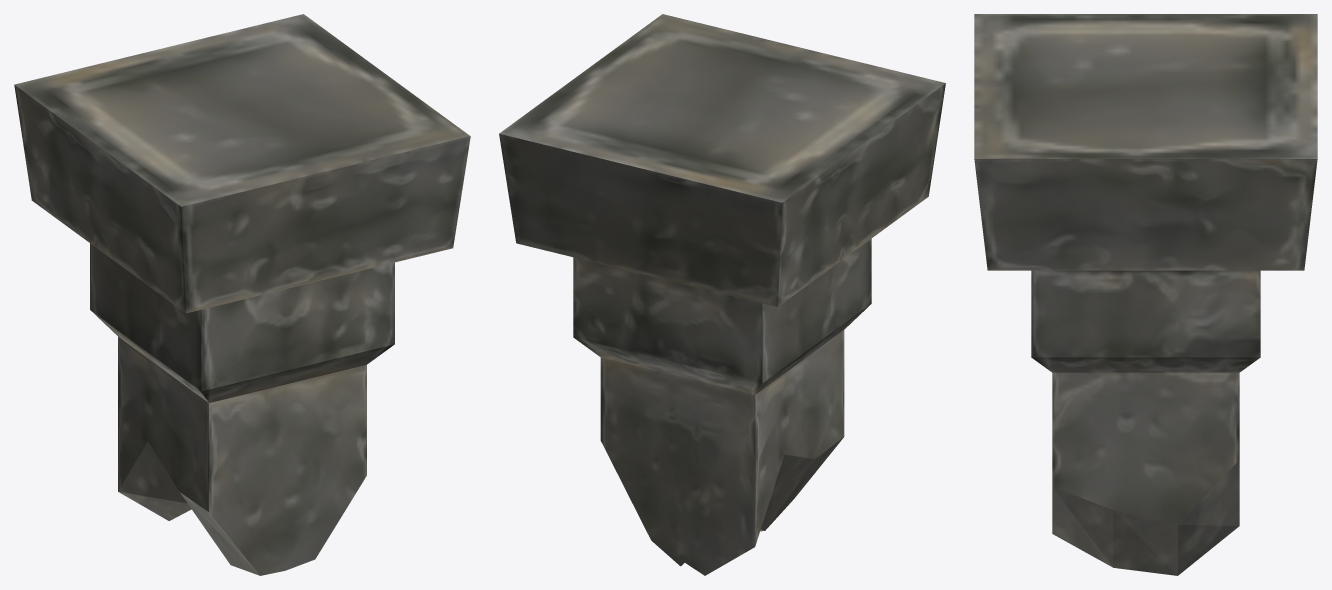
Rendered from Pillar_half_002.obj.
3 views of the same model, side by side, from view 1: azimuth 30°, elevation 25°; view 2: azimuth 150°, elevation 25°; view 3: azimuth 270°, elevation 25° (orthographic). The views are drawn at different scales.
Parts seen in each view (by area): view 1: Pillar_half_002; view 2: Pillar_half_002; view 3: Pillar_half_002.
Boxes of the visible parts, x1,y1,x2,y2 form: Pillar_half_002: (14,14,470,575); Pillar_half_002: (499,14,945,575); Pillar_half_002: (974,14,1317,575).
Bounding box in the file's own units: 2.66 × 4.06 × 2.66.
